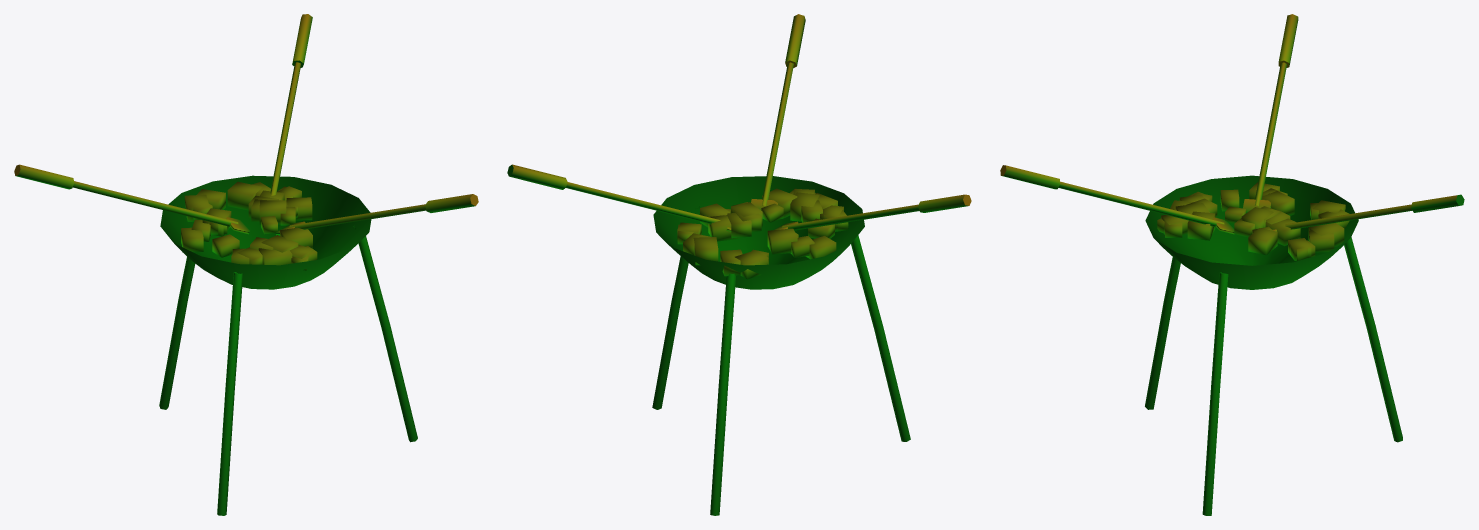
Rendered from branding_brazier.glb.
The picture shows the model from 3 angles, left to right: view 1: azimuth 30°, elevation 25°; view 2: azimuth 150°, elevation 25°; view 3: azimuth 270°, elevation 25°; orthographic projection.
Visible parts, largest first — view 1: branding_brazier; view 2: branding_brazier; view 3: branding_brazier.
Part boxes in pixels (x1,y1,x2,y2): branding_brazier: (14,14,478,515); branding_brazier: (507,14,971,515); branding_brazier: (1000,14,1464,515).
Size of what is drawn, in the model's own units: 1.39 by 1.16 by 1.48.
